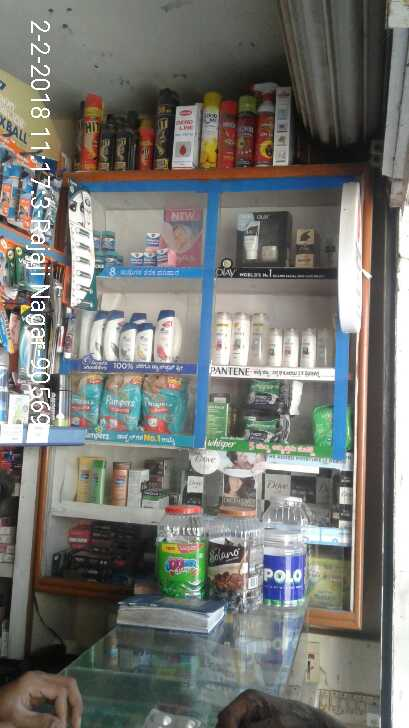beauty: (154, 309, 177, 368), (226, 313, 250, 366), (247, 310, 266, 366), (212, 311, 229, 366), (296, 328, 318, 370), (295, 228, 319, 266), (102, 313, 120, 360), (87, 312, 103, 361), (264, 324, 281, 369), (282, 329, 301, 369), (243, 215, 259, 259), (119, 324, 136, 361), (138, 323, 150, 363), (154, 309, 157, 310)
pharmacy: (140, 371, 183, 439), (98, 372, 141, 435), (67, 375, 98, 431), (242, 413, 288, 447), (253, 380, 288, 412), (142, 229, 161, 252), (155, 248, 174, 270), (125, 250, 145, 268), (102, 230, 115, 256), (139, 249, 158, 264)
